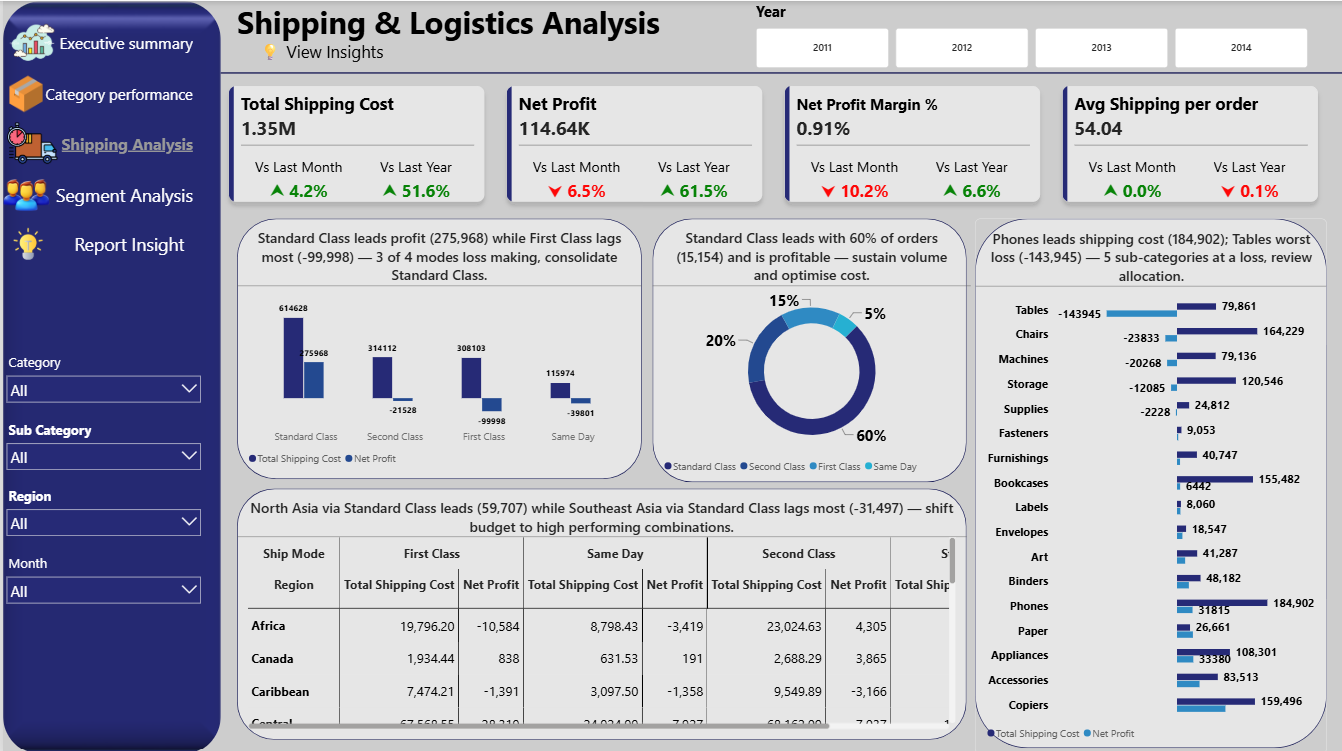

The dashboard page shown, as its layout file describes it:
{"tool":"powerbi","page":{"name":"Shipping Analysis","canvas":[1920,1080],"ordinal":3},"visuals":[{"type":"shape","box":[0,0,312,1080],"z":0,"group":"g11"},{"type":"group","id":"g1","title":"Group 6","box":[0,24,83.7,288],"z":0,"group":"g6"},{"type":"shape","box":[0,24,272,72],"z":0,"group":"g4"},{"type":"actionButton","box":[0,24,288,72],"z":0,"group":"g8"},{"type":"shape","box":[312,72,1608,60],"z":0,"group":"g12"},{"type":"image","box":[0,168,83.7,72],"z":0,"group":"g1"},{"type":"shape","box":[336,312,580,373.3],"z":0,"group":"g9"},{"type":"group","id":"g2","title":"Group 2","box":[931,312,456,384],"z":0},{"type":"shape","box":[931,312,450,377.8],"z":0,"group":"g2"},{"type":"group","id":"g3","title":"Group 5","box":[1392,312,504,768],"z":0,"group":"g5"},{"type":"shape","box":[1392,312,504,758.7],"z":0,"group":"g3"},{"type":"slicer","fields":{"Values":["Superstore Data.Category"]},"box":[0,504,288,72],"z":0,"group":"g10"},{"type":"shape","box":[335,698,1045,360],"z":0,"group":"g7"},{"type":"image","box":[0,0,312,1080],"z":1000,"group":"g11"},{"type":"shape","box":[336,0,624,64],"z":1000,"group":"g12"},{"type":"group","id":"g4","title":"Group 7","box":[0,24,272,288],"z":1000,"group":"g6"},{"type":"image","box":[0,96,66,72],"z":1000,"group":"g1"},{"type":"shape","box":[0,96,272,72],"z":1000,"group":"g4"},{"type":"actionButton","box":[0,96,278,72],"z":1000,"group":"g8"},{"type":"clusteredColumnChart","fields":{"Category":["Superstore Data.Ship Mode"],"Y":["Calculated Measures.Total Shipping Cost","Calculated Measures.Profit After Shipping"]},"box":[336,312,580,373.3],"z":1000,"group":"g9"},{"type":"donutChart","fields":{"Y":["Calculated Measures.Total Order"],"Category":["Superstore Data.Ship Mode"]},"box":[931,312,456,384],"z":1000,"group":"g2"},{"type":"group","id":"g5","title":"Group 3","box":[1392,312,504,768],"z":1000},{"type":"clusteredBarChart","fields":{"Category":["Superstore Data.Sub Category"],"Y":["Calculated Measures.Total Shipping Cost","Calculated Measures.Profit After Shipping"]},"box":[1392,312,504,768],"z":1000,"group":"g3"},{"type":"slicer","fields":{"Values":["Superstore Data.Region"]},"box":[0,696,288,72],"z":1000,"group":"g10"},{"type":"pivotTable","fields":{"Values":["Calculated Measures.Total Shipping Cost","Calculated Measures.Profit After Shipping"],"Columns":["Superstore Data.Ship Mode"],"Rows":["Superstore Data.Region"]},"box":[335,698,1045,360],"z":1000,"group":"g7"},{"type":"advancedSlicerVisual","fields":{"Values":["Date_Table.Year"]},"box":[1080,0,792,96],"z":2000,"group":"g12"},{"type":"group","id":"g6","title":"Group 8","box":[0,24,272,288],"z":2000,"group":"g11"},{"type":"actionButton","box":[0,168,278,72],"z":2000,"group":"g8"},{"type":"image","box":[0,240,67,72],"z":2000,"group":"g1"},{"type":"shape","box":[0,240,272,72],"z":2000,"group":"g4"},{"type":"group","id":"g7","title":"Group 4","box":[335,698,1045,360],"z":2000},{"type":"slicer","fields":{"Values":["Date_Table.Month"]},"box":[0,792,288,72],"z":2000,"group":"g10"},{"type":"image","box":[0,24,83.7,72],"z":3000,"group":"g1"},{"type":"group","id":"g8","title":"Navigation Panel","box":[0,24,288,288],"z":3000,"group":"g13"},{"type":"shape","box":[312,48,288,48],"z":3000,"group":"g12"},{"type":"cardVisual","fields":{"Data":["Calculated Measures.Total Shipping Cost","Calculated Measures.Profit After Shipping","Calculated Measures.Profit Margin After Shipping","Calculated Measures.Avg Shipping per order"]},"box":[312,110,1584,190],"z":3000},{"type":"shape","box":[0,168,272,72],"z":3000,"group":"g4"},{"type":"actionButton","box":[0,240,278,72],"z":3000,"group":"g8"},{"type":"slicer","fields":{"Values":["Superstore Data.Sub Category"]},"box":[0,600,288,96],"z":3000,"group":"g10"},{"type":"group","id":"g9","title":"Group 1","box":[336,312,580,373.3],"z":4000},{"type":"group","id":"g10","title":"Filter","box":[0,504,288,360],"z":4000,"group":"g11"},{"type":"group","id":"g11","title":"Right Panel","box":[0,0,312,1080],"z":5000},{"type":"image","box":[0,312,72,72],"z":5000,"group":"g13"},{"type":"group","id":"g12","title":"Top Panel","box":[312,0,1608,132],"z":6000},{"type":"shape","box":[0,312,260,72],"z":6000,"group":"g13"},{"type":"group","id":"g13","title":"Group 9","box":[0,24,288,360],"z":7001,"group":"g11"},{"type":"actionButton","box":[0,312,264,72],"z":8000,"group":"g11"}]}

Visuals, with their boxes in screenshot pixels (x1, y1, x2, y2), scaled from the page's 1920x1080 canvas onto the 1342x751 screenshot:
shape: [x1=0, y1=0, x2=218, y2=750]
"Group 6" group: [x1=0, y1=17, x2=59, y2=217]
shape: [x1=0, y1=17, x2=190, y2=67]
actionButton: [x1=0, y1=17, x2=201, y2=67]
shape: [x1=218, y1=50, x2=1341, y2=92]
image: [x1=0, y1=117, x2=59, y2=167]
shape: [x1=235, y1=217, x2=640, y2=477]
"Group 2" group: [x1=651, y1=217, x2=969, y2=484]
shape: [x1=651, y1=217, x2=965, y2=480]
"Group 5" group: [x1=973, y1=217, x2=1325, y2=750]
shape: [x1=973, y1=217, x2=1325, y2=745]
slicer - Superstore Data.Category: [x1=0, y1=350, x2=201, y2=401]
shape: [x1=234, y1=485, x2=965, y2=736]
image: [x1=0, y1=0, x2=218, y2=750]
shape: [x1=235, y1=0, x2=671, y2=45]
"Group 7" group: [x1=0, y1=17, x2=190, y2=217]
image: [x1=0, y1=67, x2=46, y2=117]
shape: [x1=0, y1=67, x2=190, y2=117]
actionButton: [x1=0, y1=67, x2=194, y2=117]
clusteredColumnChart - Superstore Data.Ship Mode x Calculated Measures.Total Shipping Cost: [x1=235, y1=217, x2=640, y2=477]
donutChart - Calculated Measures.Total Order x Superstore Data.Ship Mode: [x1=651, y1=217, x2=969, y2=484]
"Group 3" group: [x1=973, y1=217, x2=1325, y2=750]
clusteredBarChart - Superstore Data.Sub Category x Calculated Measures.Total Shipping Cost: [x1=973, y1=217, x2=1325, y2=750]
slicer - Superstore Data.Region: [x1=0, y1=484, x2=201, y2=534]
pivotTable - Calculated Measures.Total Shipping Cost x Calculated Measures.Profit After Shipping: [x1=234, y1=485, x2=965, y2=736]
advancedSlicerVisual - Date_Table.Year: [x1=755, y1=0, x2=1308, y2=67]
"Group 8" group: [x1=0, y1=17, x2=190, y2=217]
actionButton: [x1=0, y1=117, x2=194, y2=167]
image: [x1=0, y1=167, x2=47, y2=217]
shape: [x1=0, y1=167, x2=190, y2=217]
"Group 4" group: [x1=234, y1=485, x2=965, y2=736]
slicer - Date_Table.Month: [x1=0, y1=551, x2=201, y2=601]
image: [x1=0, y1=17, x2=59, y2=67]
"Navigation Panel" group: [x1=0, y1=17, x2=201, y2=217]
shape: [x1=218, y1=33, x2=419, y2=67]
cardVisual - Calculated Measures.Total Shipping Cost x Calculated Measures.Profit After Shipping: [x1=218, y1=76, x2=1325, y2=209]
shape: [x1=0, y1=117, x2=190, y2=167]
actionButton: [x1=0, y1=167, x2=194, y2=217]
slicer - Superstore Data.Sub Category: [x1=0, y1=417, x2=201, y2=484]
"Group 1" group: [x1=235, y1=217, x2=640, y2=477]
"Filter" group: [x1=0, y1=350, x2=201, y2=601]
"Right Panel" group: [x1=0, y1=0, x2=218, y2=750]
image: [x1=0, y1=217, x2=50, y2=267]
"Top Panel" group: [x1=218, y1=0, x2=1341, y2=92]
shape: [x1=0, y1=217, x2=182, y2=267]
"Group 9" group: [x1=0, y1=17, x2=201, y2=267]
actionButton: [x1=0, y1=217, x2=185, y2=267]
